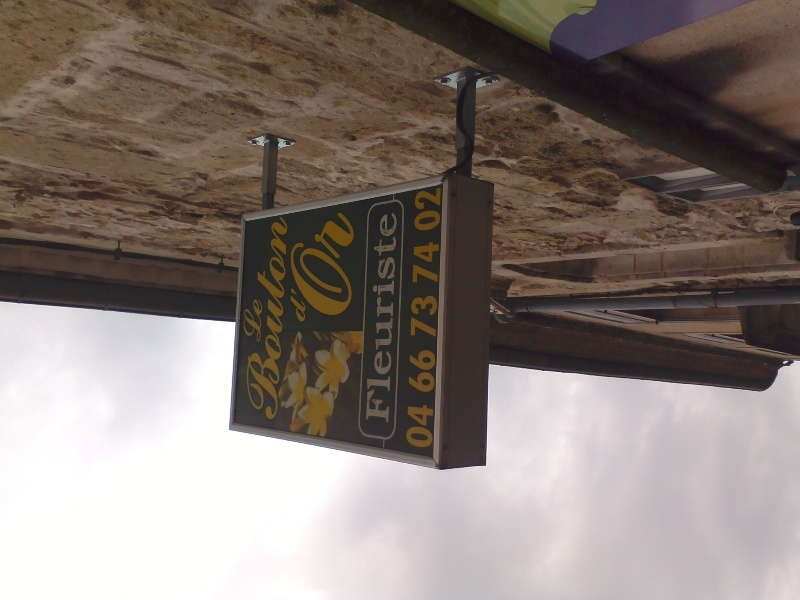text: (385, 210, 400, 425), (257, 215, 272, 423), (273, 215, 288, 423), (305, 207, 320, 332), (321, 207, 336, 332), (337, 207, 352, 332), (376, 210, 384, 425), (353, 207, 360, 332), (298, 207, 304, 332), (417, 348, 432, 395), (417, 404, 432, 449), (417, 295, 432, 339), (417, 188, 432, 232), (289, 286, 304, 329), (417, 242, 432, 285), (289, 215, 292, 423), (245, 292, 256, 347), (254, 215, 256, 423), (407, 404, 416, 449), (433, 188, 442, 232), (433, 242, 442, 285), (257, 292, 263, 347), (409, 348, 416, 395), (433, 295, 439, 339), (433, 348, 438, 395), (411, 242, 416, 285), (412, 295, 416, 339), (305, 286, 309, 329), (413, 188, 416, 232), (433, 404, 434, 449)
